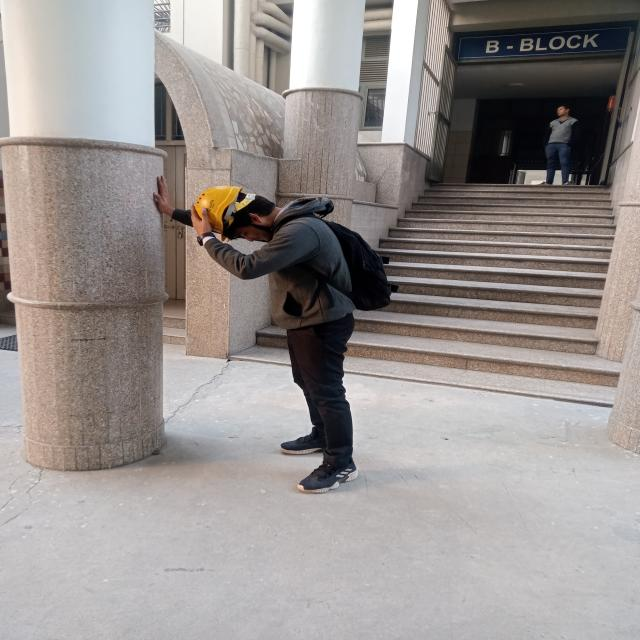no jacket: (190, 182, 368, 492)
unsafe: (542, 104, 581, 186)
